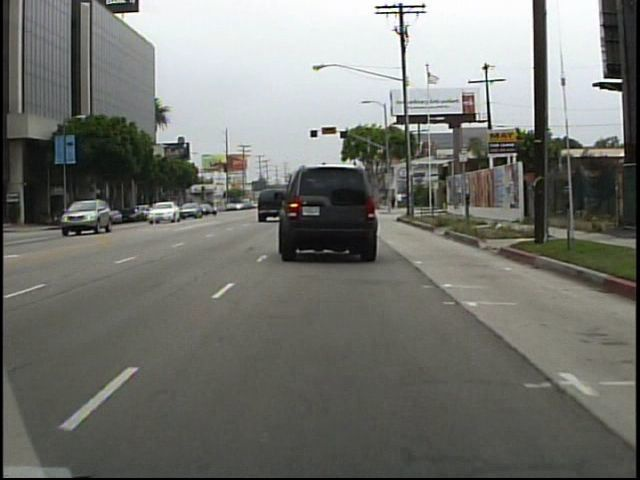person: (397, 187, 405, 212), (389, 189, 397, 210)
